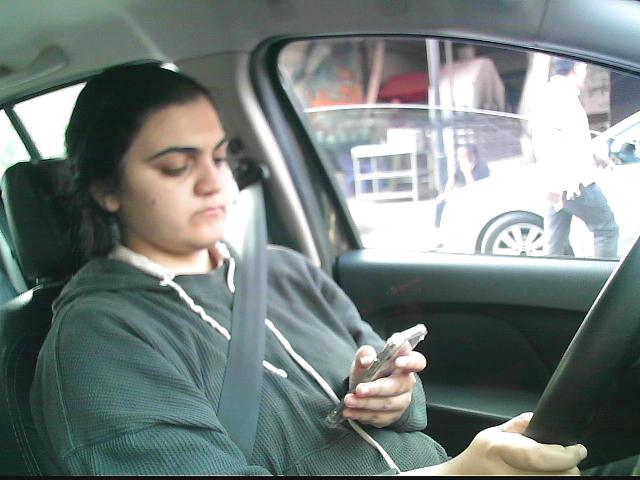PhoneUse: (320, 320, 430, 430)
